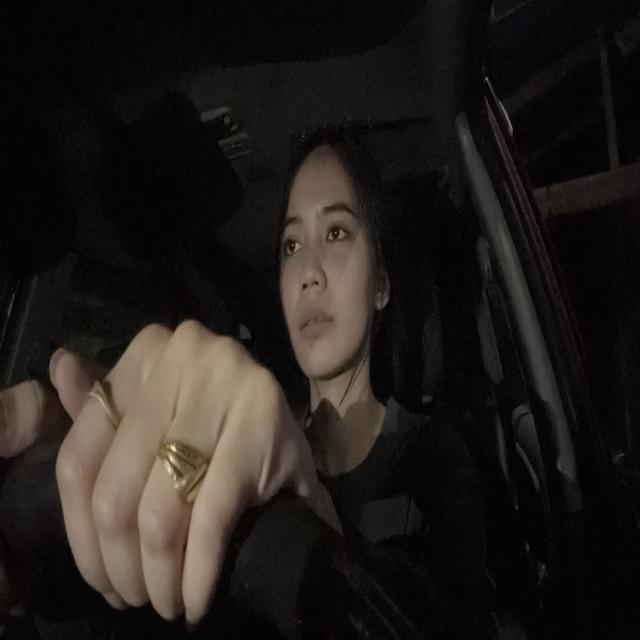open: (319, 197, 364, 258), (282, 214, 306, 272)
